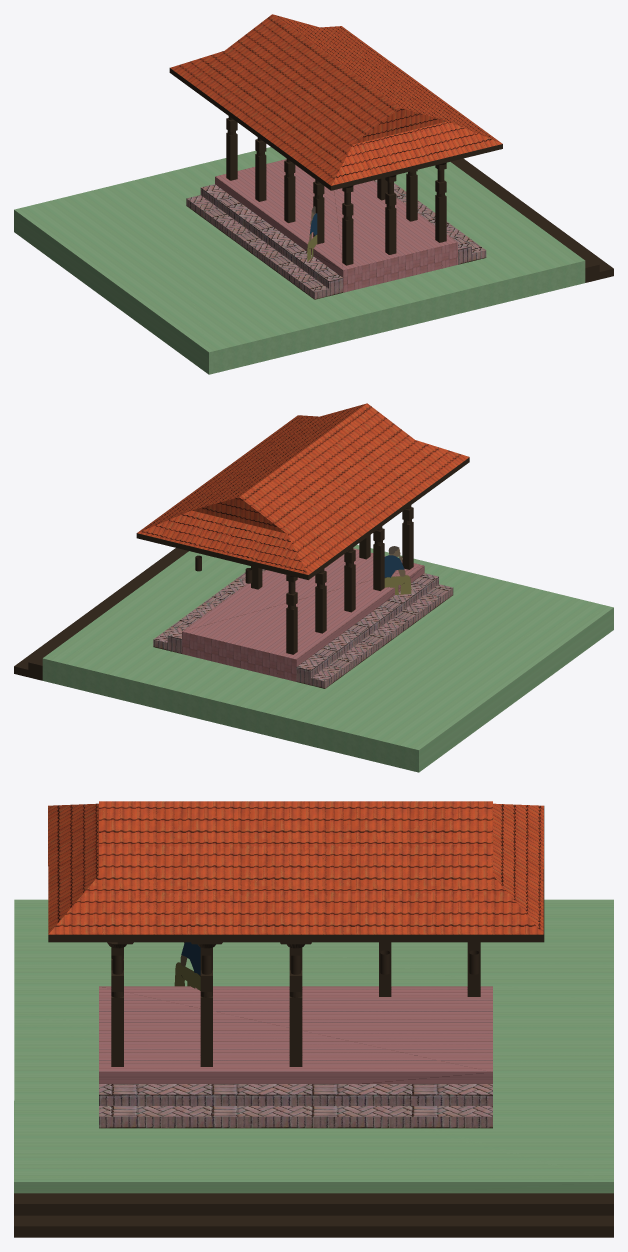
File: Pati.fbx
3 renders of one model, top to bottom at view 1: azimuth 30°, elevation 25°; view 2: azimuth 150°, elevation 25°; view 3: azimuth 270°, elevation 25°, orthographic. The views are drawn at different scales.
Parts seen in each view (by area): view 1: G-Group#20, G-Group#120, G-Group#62, G-Group#122, G-Group#61, G-Group#60, G-Group#271, G-Group#30, G-Group#29, G-Group#121, G-Group#63, G-Group#64 (+7 smaller); view 2: G-Group#20, G-Group#120, G-Group#62, G-Group#121, G-Group#61, G-Group#60, G-Group#271, G-Group#30, G-Group#29, C-2D_Man_Sitting, G-Group#64, G-Group#63 (+6 smaller); view 3: G-Group#20, G-Group#120, G-Group#62, G-Group#29, G-Group#30, G-Group#63, G-Group#64, G-Group#121, G-Group#122, G-Group#271, _(Loose Entity), G-Group#148 (+3 smaller).
Part boxes in pixels (x1,y1,x2,y2): G-Group#20: [14, 147, 585, 374]; G-Group#120: [187, 14, 485, 173]; G-Group#62: [215, 159, 457, 292]; G-Group#122: [315, 121, 502, 185]; G-Group#61: [200, 184, 343, 296]; G-Group#60: [186, 195, 328, 299]; G-Group#271: [169, 68, 502, 190]; G-Group#30: [450, 160, 599, 282]; G-Group#29: [457, 158, 613, 279]; G-Group#121: [170, 26, 357, 79]; G-Group#63: [394, 183, 486, 261]; G-Group#64: [373, 179, 471, 264]; G-Group#20: [42, 545, 613, 772]; G-Group#120: [154, 403, 452, 562]; G-Group#62: [182, 548, 424, 681]; G-Group#121: [137, 510, 324, 574]; G-Group#61: [296, 573, 438, 685]; G-Group#60: [311, 584, 453, 688]; G-Group#271: [136, 457, 469, 579]; G-Group#30: [28, 549, 188, 680]; G-Group#29: [14, 548, 182, 676]; C-2D_Man_Sitting: [384, 546, 411, 594]; G-Group#64: [167, 569, 265, 653]; G-Group#63: [153, 572, 245, 650]; G-Group#20: [14, 899, 613, 1193]; G-Group#120: [99, 801, 492, 934]; G-Group#62: [99, 986, 492, 1083]; G-Group#29: [14, 1215, 613, 1237]; G-Group#30: [14, 1193, 613, 1215]; G-Group#63: [99, 1106, 492, 1128]; G-Group#64: [99, 1084, 492, 1105]; G-Group#121: [493, 803, 543, 934]; G-Group#122: [48, 803, 98, 934]; G-Group#271: [48, 806, 544, 942]; _(Loose Entity): [112, 950, 479, 974]; G-Group#148: [289, 996, 302, 1066].
Size of the model in its own units: 850 by 388 by 710.
Materials: 12 (4 with a texture image).
